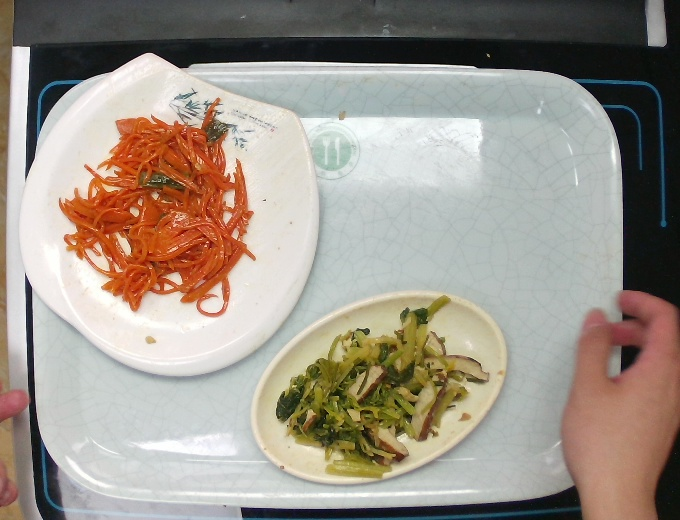JYsf-Mian_Pan: (12, 46, 330, 380)
JYsf-Tuo_Yuan_Wan: (243, 285, 514, 487)
